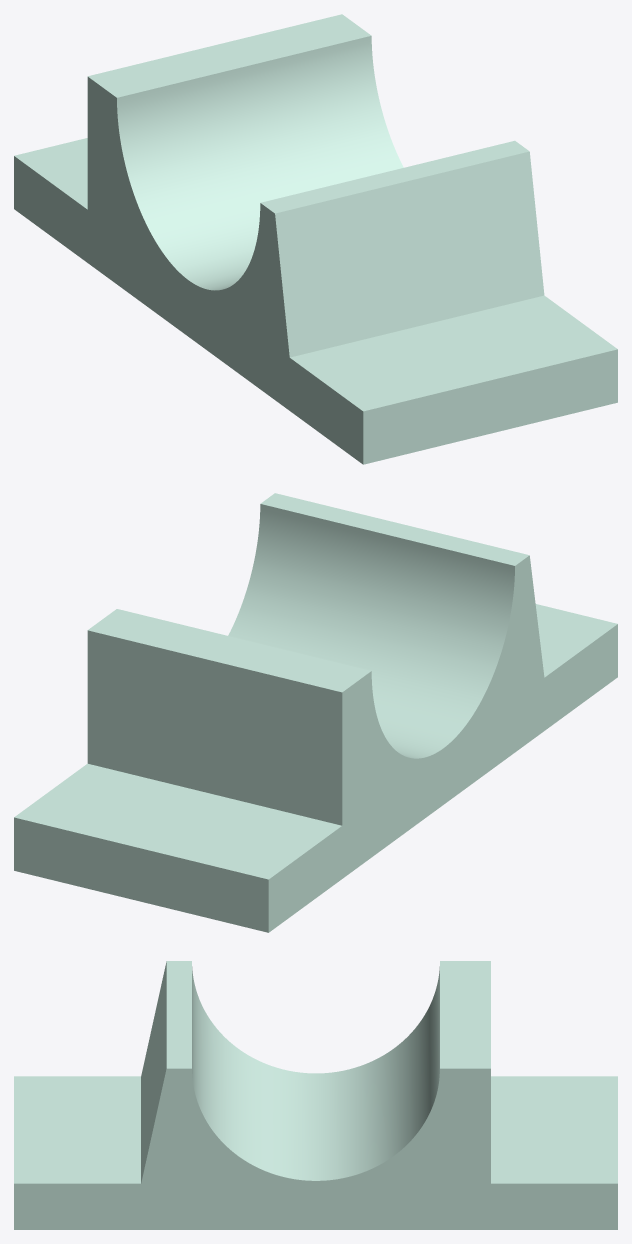
3 views of the same model, one above another, from view 1: azimuth 30°, elevation 25°; view 2: azimuth 150°, elevation 25°; view 3: azimuth 270°, elevation 25° (orthographic). The views are drawn at different scales.
Parts seen in each view (by area): view 1: Renderer Node; view 2: Renderer Node; view 3: Renderer Node.
Boxes of the visible parts, left/top/right/bottom form: Renderer Node: left=14, top=14, right=617, bottom=464; Renderer Node: left=14, top=493, right=617, bottom=932; Renderer Node: left=14, top=961, right=617, bottom=1229.
Bounding box in the file's own units: 0.5625 × 0.3938 × 1.34.
